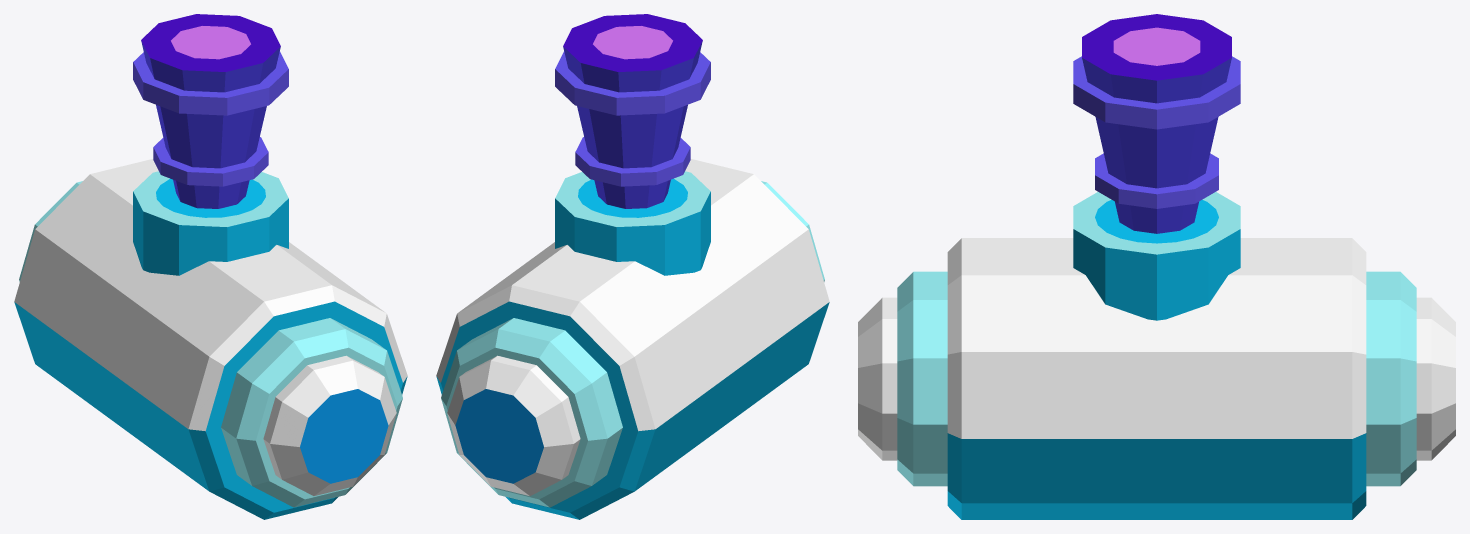
File: Aircraft_028.fbx
3 renders of one model, left to right at view 1: azimuth 30°, elevation 25°; view 2: azimuth 150°, elevation 25°; view 3: azimuth 270°, elevation 25°, orthographic. The views are drawn at different scales.
Visible parts, largest first — view 1: Aircraft_028; view 2: Aircraft_028; view 3: Aircraft_028.
Part boxes in pixels (x1,y1,x2,y2): Aircraft_028: (14, 14, 407, 519); Aircraft_028: (436, 14, 829, 519); Aircraft_028: (858, 14, 1455, 519).
Bounding box in the file's own units: 2 × 3.53 × 4.21.
